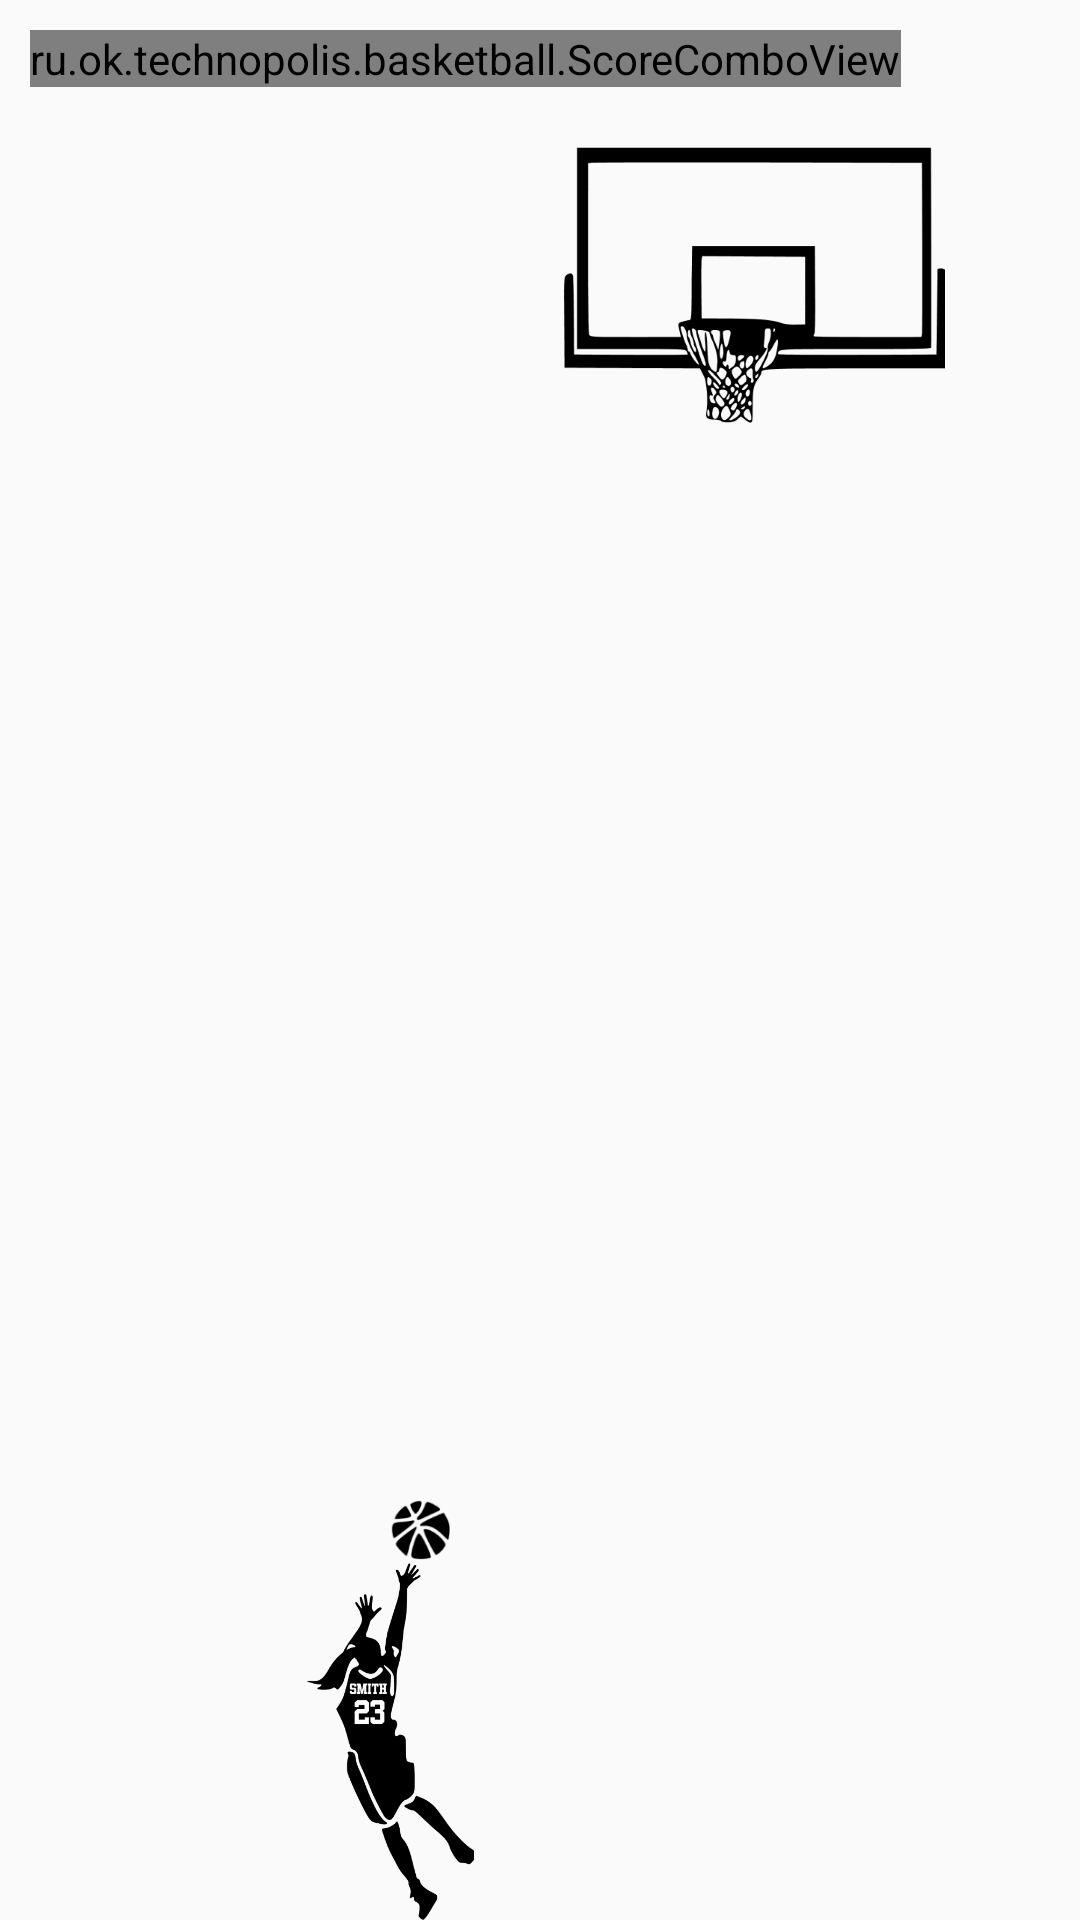

Where icons sit on this 1080*1920 app screen, as (x1, y1, x2, y2):
ball: (391, 1501, 450, 1560)
player: (307, 1563, 474, 1920)
